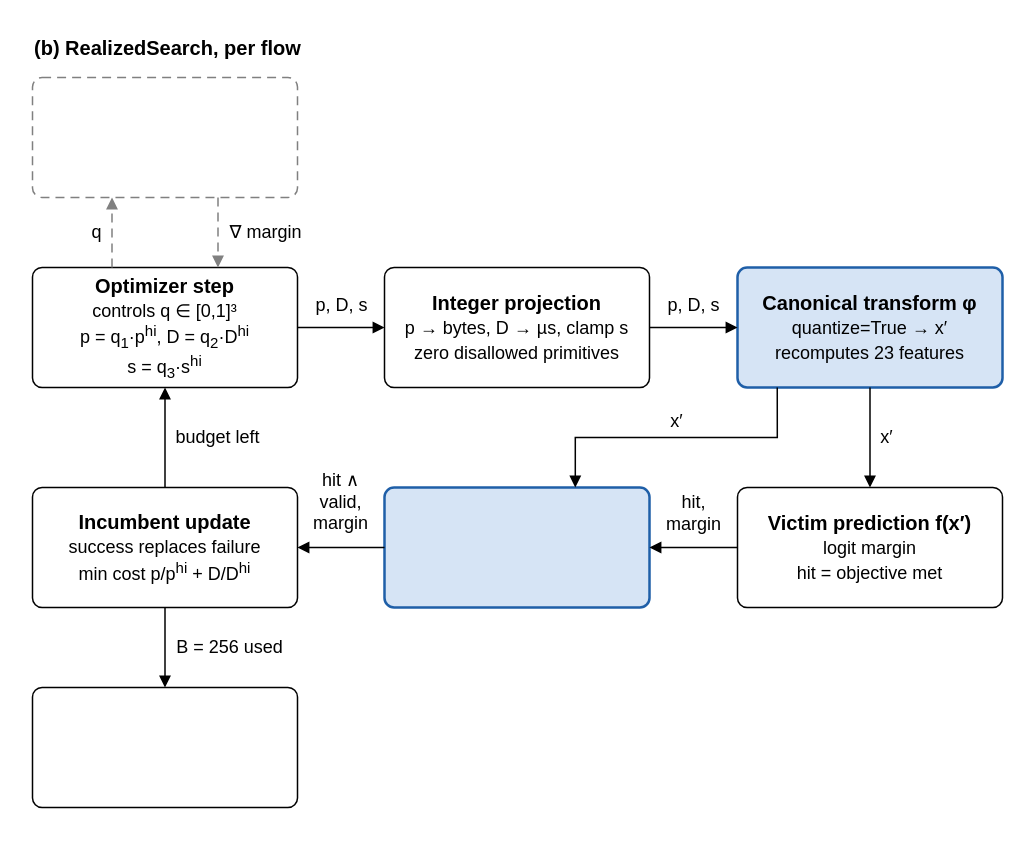
This 1034x854 diagram has some shape labels left out. The shapes that lost their labels are listed below. From the top down, each one's centre as x and y in pixels, then its label:
At point (164, 137): "Gradient-only surrogate φ with quantize=False at max(q, 1e-3) → ∇ margin".
At point (516, 547): "validator_v2 gate hybrid_valid(x′ | x) incl. PROTO_0080".
At point (164, 747): "Final adversarial x′ to post-attack evaluation".
